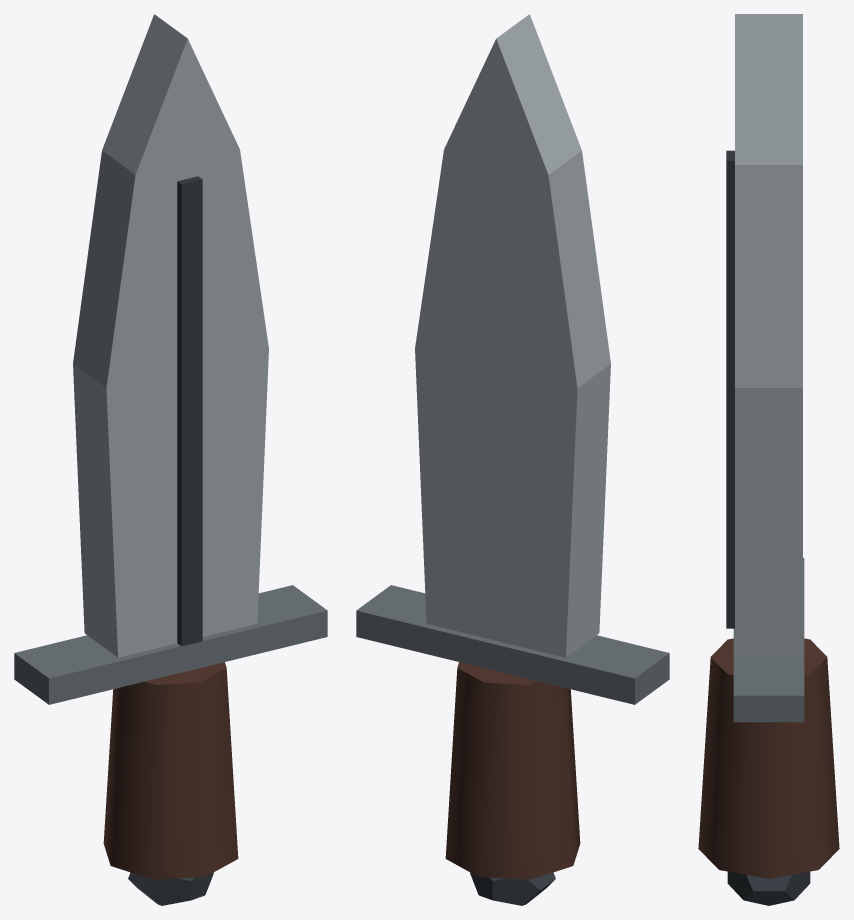
The model's file is longsword.glb.
The picture shows the model from 3 angles, left to right: view 1: azimuth 30°, elevation 25°; view 2: azimuth 150°, elevation 25°; view 3: azimuth 270°, elevation 25°; orthographic projection.
Visible parts, largest first — view 1: longsword-blade, longsword-grip, longsword-crossguard, longsword-fuller, longsword-pommel; view 2: longsword-blade, longsword-grip, longsword-crossguard, longsword-pommel; view 3: longsword-blade, longsword-grip, longsword-crossguard, longsword-fuller, longsword-pommel.
Part boxes in pixels (x1,y1,x2,y2): longsword-blade: (73,14,268,657); longsword-grip: (103,662,238,879); longsword-crossguard: (14,585,327,704); longsword-fuller: (177,176,202,646); longsword-pommel: (128,872,213,905); longsword-blade: (415,14,610,657); longsword-grip: (445,662,580,879); longsword-crossguard: (356,585,669,704); longsword-pommel: (470,872,555,905); longsword-blade: (735,14,802,657); longsword-grip: (698,638,839,878); longsword-crossguard: (733,558,804,722); longsword-fuller: (726,150,734,628); longsword-pommel: (727,871,810,905).
Size of the model in its own units: 0.24 by 0.72 by 0.104.
